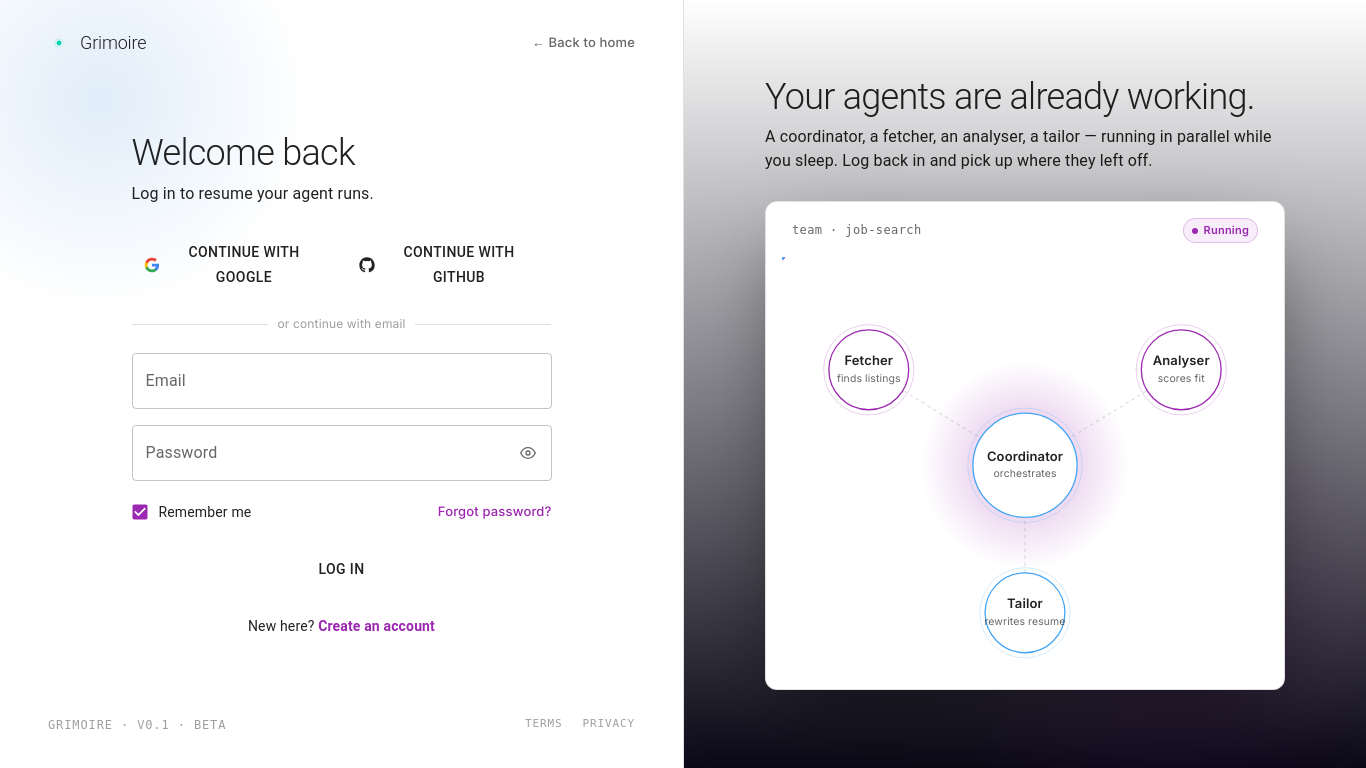
LoginForm › shows validation error when password is empty
Type "user@example.com" into the field labelled "Email" at point(342, 381), box [132, 353, 552, 409]
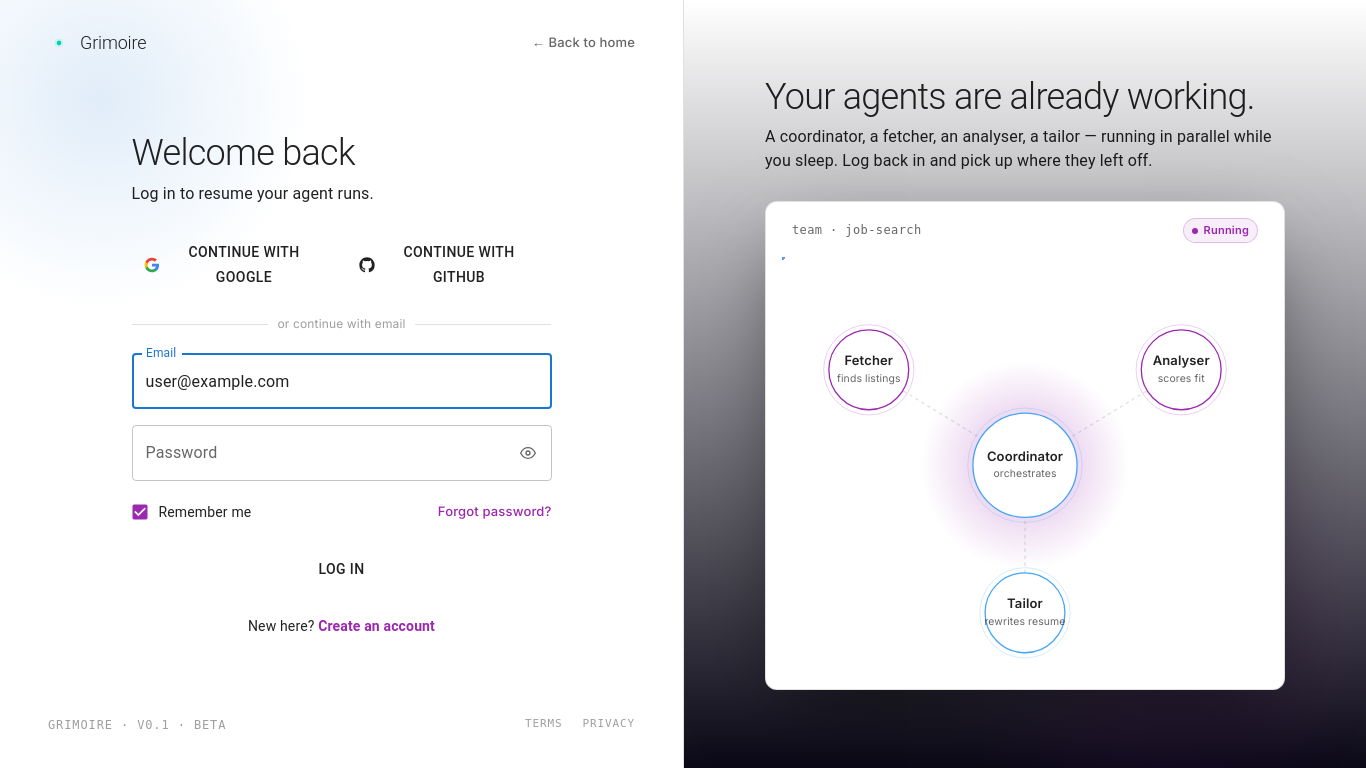
Click the button "Log in" at point(342, 569), box [132, 551, 552, 588]
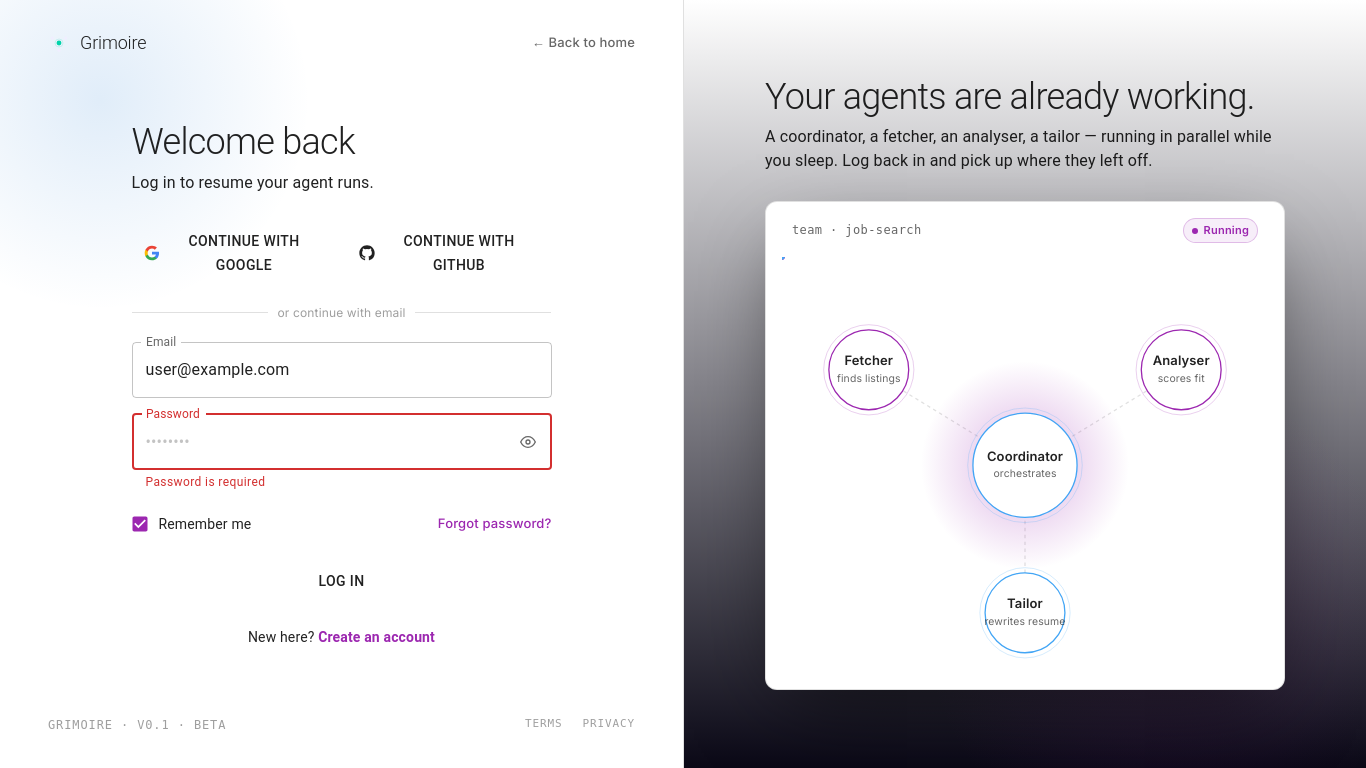
Expected: the text "Password is required" is shown, [146, 475, 265, 489]
